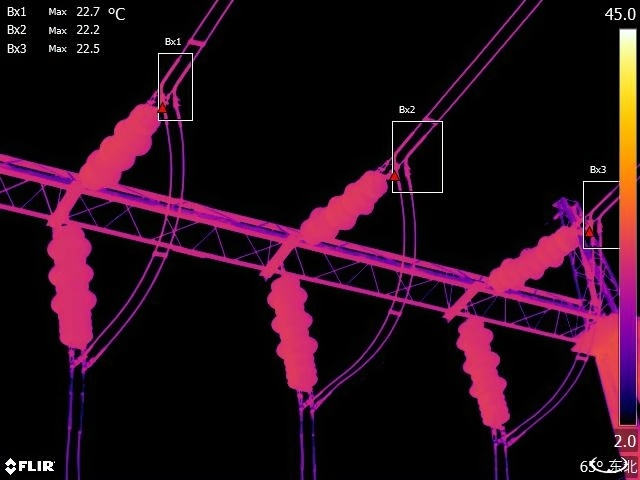clamp: (578, 205, 614, 239), (62, 350, 101, 379), (151, 79, 182, 112), (385, 148, 417, 178), (484, 432, 520, 457), (291, 396, 318, 418)
insulator: (76, 91, 160, 193), (264, 271, 326, 394), (295, 166, 391, 245), (454, 317, 517, 431), (490, 219, 585, 288), (47, 221, 94, 340)
